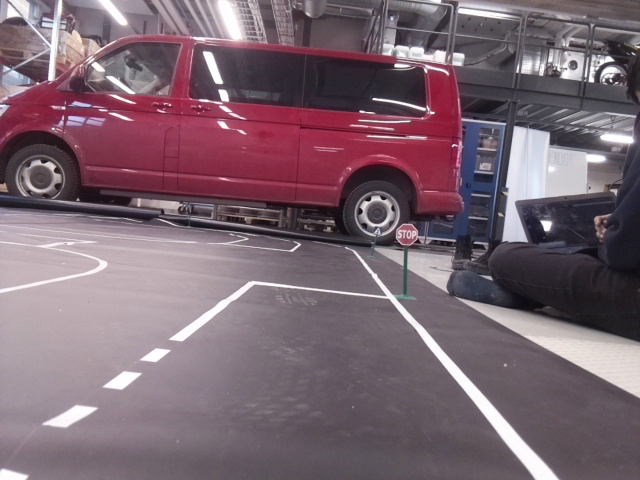Stop: (394, 222, 417, 248)
